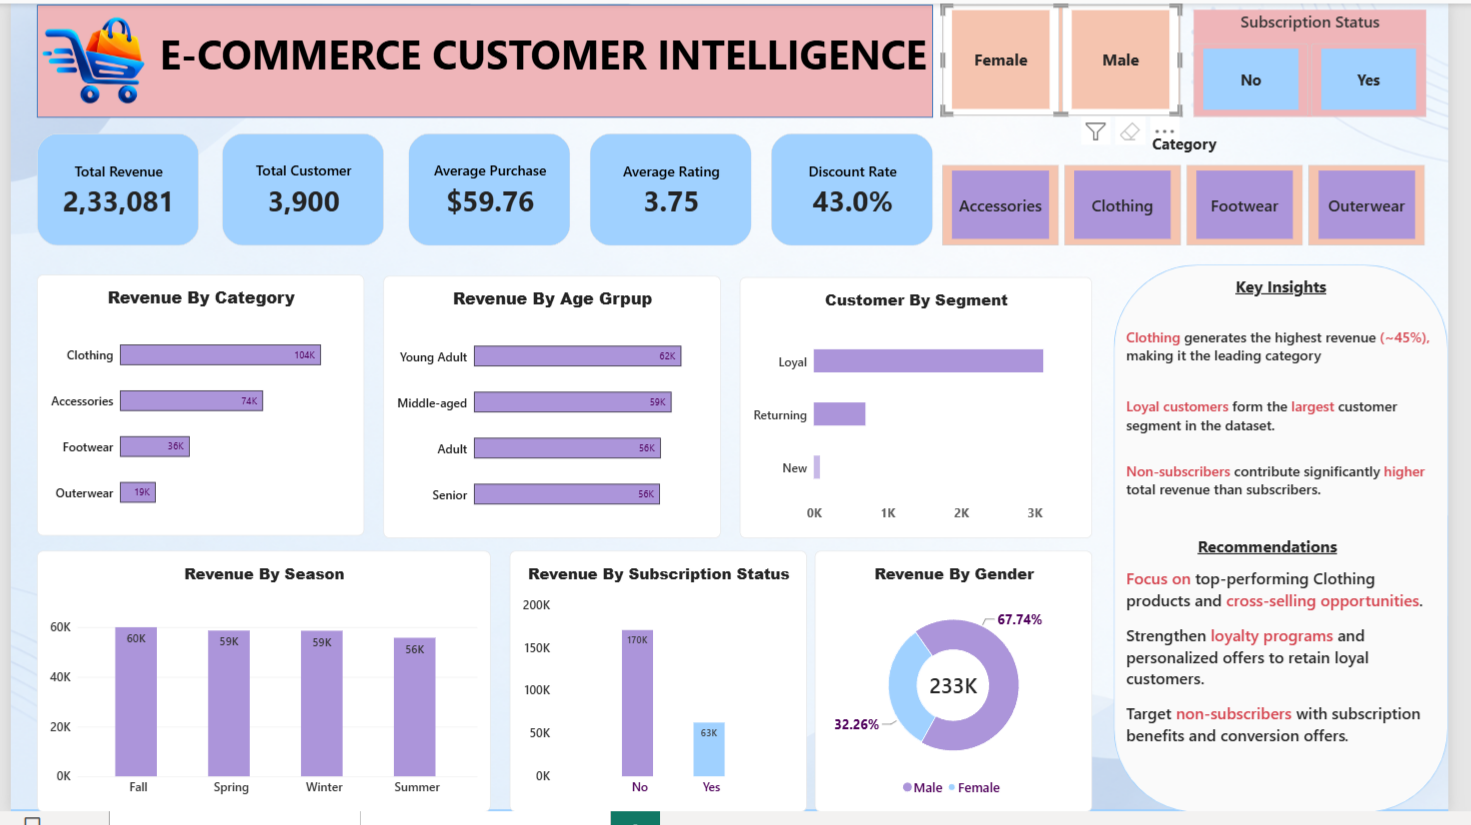

The dashboard page shown, as its layout file describes it:
{"tool":"powerbi","page":{"name":"Executive and Sales Overview","canvas":[1920,1080],"ordinal":0},"visuals":[{"type":"cardVisual","fields":{"Data":["public customer.Total Customer"]},"box":[282.5,173.7,216.3,150],"z":0},{"type":"cardVisual","fields":{"Data":["public customer.Average Purchases Amount"]},"box":[531.6,173.7,216.3,150],"z":1000},{"type":"cardVisual","fields":{"Data":["public customer.Average Rating"]},"box":[773.7,173.7,216.3,150],"z":2000},{"type":"cardVisual","fields":{"Data":["public customer.Discount Rate"]},"box":[1015.8,173.7,216.3,150],"z":3000},{"type":"cardVisual","fields":{"Data":["public customer.Total Revenue"]},"box":[35.1,173.7,216.3,150],"z":4000},{"type":"shape","box":[35.1,1.8,1196.5,150.9],"z":5000},{"type":"textbox","box":[482.5,477.2,679,151],"z":6000},{"type":"textbox","box":[198.2,29.8,1033.3,96.5],"z":7000},{"type":"image","box":[35.1,0,149.1,150.9],"z":8000},{"type":"barChart","title":" Revenue By Category","fields":{"Y":["public customer.Total Revenue"],"Category":["public customer.category"]},"box":[35.1,363.2,436.8,349.1],"z":9000},{"type":"barChart","title":" Revenue By Age Grpup","fields":{"Y":["public customer.Total Revenue"],"Category":["public customer.age_group"]},"box":[498.2,364.3,450,350],"z":10000},{"type":"donutChart","title":" Revenue By Gender","fields":{"Y":["public customer.Total Revenue"],"Category":["public customer.gender"]},"box":[1073.7,731.6,370.2,349.1],"z":11000},{"type":"clusteredColumnChart","title":" Revenue By Subscription Status","fields":{"Y":["public customer.Total Revenue"],"Category":["public customer.subscription_status"]},"box":[666.7,731.6,396.5,349.1],"z":12000},{"type":"clusteredColumnChart","title":" Revenue By Season","fields":{"Y":["public customer.Total Revenue"],"Category":["public customer.season"]},"box":[35.1,731.6,605.3,349.1],"z":13000},{"type":"clusteredBarChart","title":"Customer By Segment","fields":{"Category":["public customer.Customer Segment"],"Y":["public customer.Total Customer"]},"box":[973.7,364.9,470.2,349.1],"z":14000},{"type":"advancedSlicerVisual","fields":{"Values":["public customer.gender"]},"box":[1244.6,1.8,317.9,148.2],"z":15000},{"type":"advancedSlicerVisual","title":"Subscription Status","fields":{"Values":["public customer.subscription_status"]},"box":[1580.4,8.9,310.7,142.9],"z":16000},{"type":"advancedSlicerVisual","title":"Category","fields":{"Values":["public customer.category"]},"box":[1244.6,173.2,646.4,150],"z":17000},{"type":"shape","box":[1473.2,348.2,446.4,732.1],"z":18000},{"type":"textbox","box":[1562.5,362.5,266.1,35.7],"z":19000},{"type":"textbox","box":[1489.3,432.1,430.4,258.9],"z":20000},{"type":"textbox","box":[1528.6,708.9,300,44.6],"z":21000},{"type":"textbox","box":[1489.3,753.6,416.1,276.8],"z":22000}]}

Visuals, with their boxes in screenshot pixels (x1, y1, x2, y2), scaled from the page's 1920x1080 canvas onto the 1471x825 screenshot:
cardVisual - public customer.Total Customer: box=[216, 133, 382, 247]
cardVisual - public customer.Average Purchases Amount: box=[407, 133, 573, 247]
cardVisual - public customer.Average Rating: box=[593, 133, 758, 247]
cardVisual - public customer.Discount Rate: box=[778, 133, 944, 247]
cardVisual - public customer.Total Revenue: box=[27, 133, 193, 247]
shape: box=[27, 1, 944, 117]
textbox: box=[370, 365, 890, 480]
textbox: box=[152, 23, 944, 96]
image: box=[27, 0, 141, 115]
" Revenue By Category" barChart: box=[27, 277, 362, 544]
" Revenue By Age Grpup" barChart: box=[382, 278, 726, 546]
" Revenue By Gender" donutChart: box=[823, 559, 1106, 824]
" Revenue By Subscription Status" clusteredColumnChart: box=[511, 559, 815, 824]
" Revenue By Season" clusteredColumnChart: box=[27, 559, 491, 824]
"Customer By Segment" clusteredBarChart: box=[746, 279, 1106, 545]
advancedSlicerVisual - public customer.gender: box=[954, 1, 1197, 115]
"Subscription Status" advancedSlicerVisual: box=[1211, 7, 1449, 116]
"Category" advancedSlicerVisual: box=[954, 132, 1449, 247]
shape: box=[1129, 266, 1470, 824]
textbox: box=[1197, 277, 1401, 304]
textbox: box=[1141, 330, 1470, 528]
textbox: box=[1171, 542, 1401, 576]
textbox: box=[1141, 576, 1460, 787]
